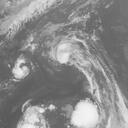cyclone: (41, 30, 88, 69), (70, 99, 100, 127), (8, 54, 32, 81)
